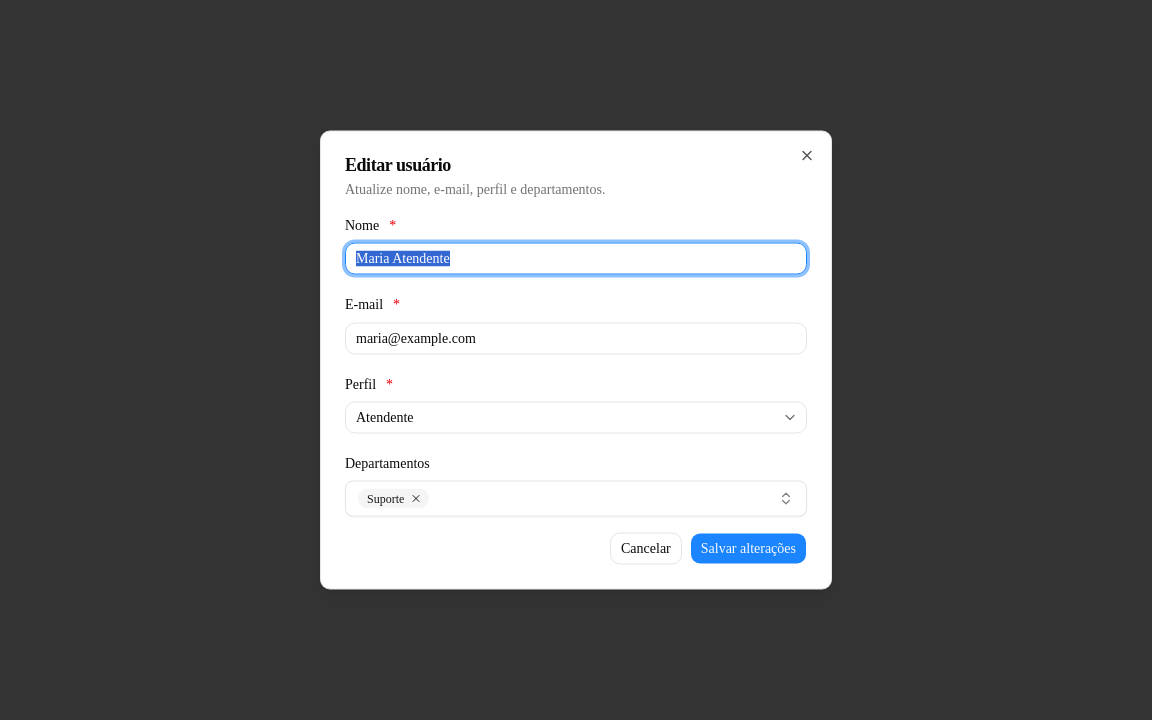
Test case: UserDialog › mapeia 409 com mensagem mencionando email para o campo email
Check: the field labelled "Nome *" is shown, box left=345, top=243, right=807, bottom=275
Step 1. Click the button "Salvar alterações" → click(748, 548), box left=690, top=532, right=807, bottom=564
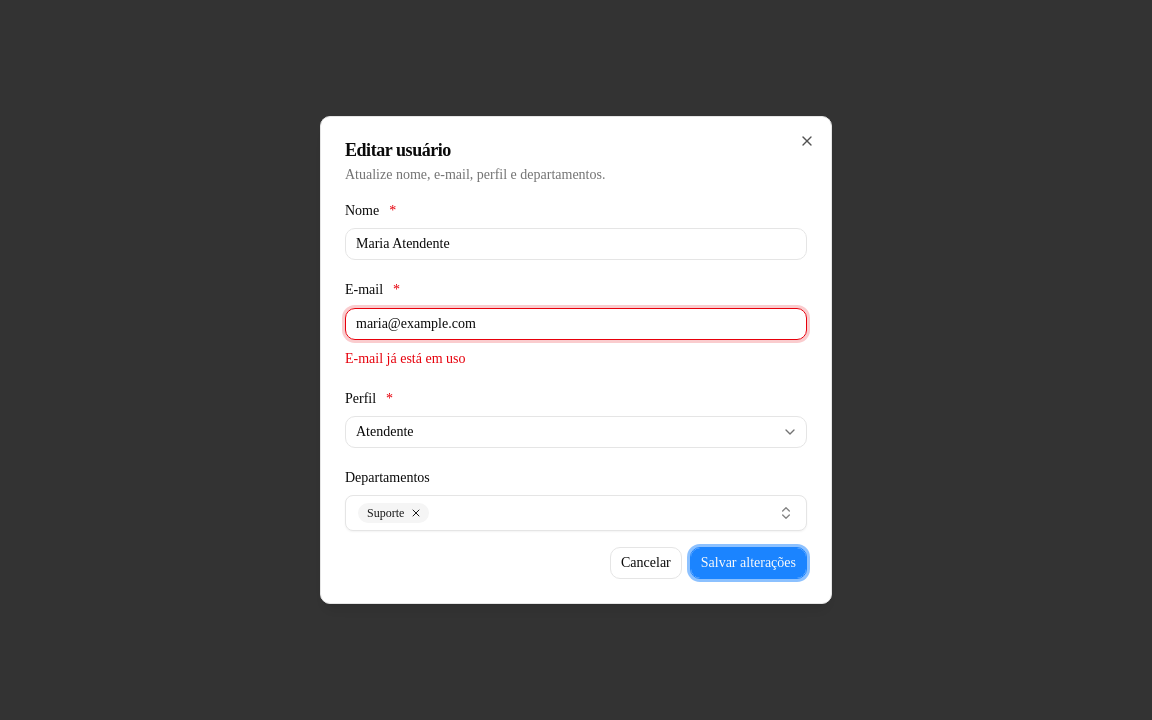
Check: the text "E-mail já está em uso" is shown, box left=345, top=350, right=466, bottom=366
